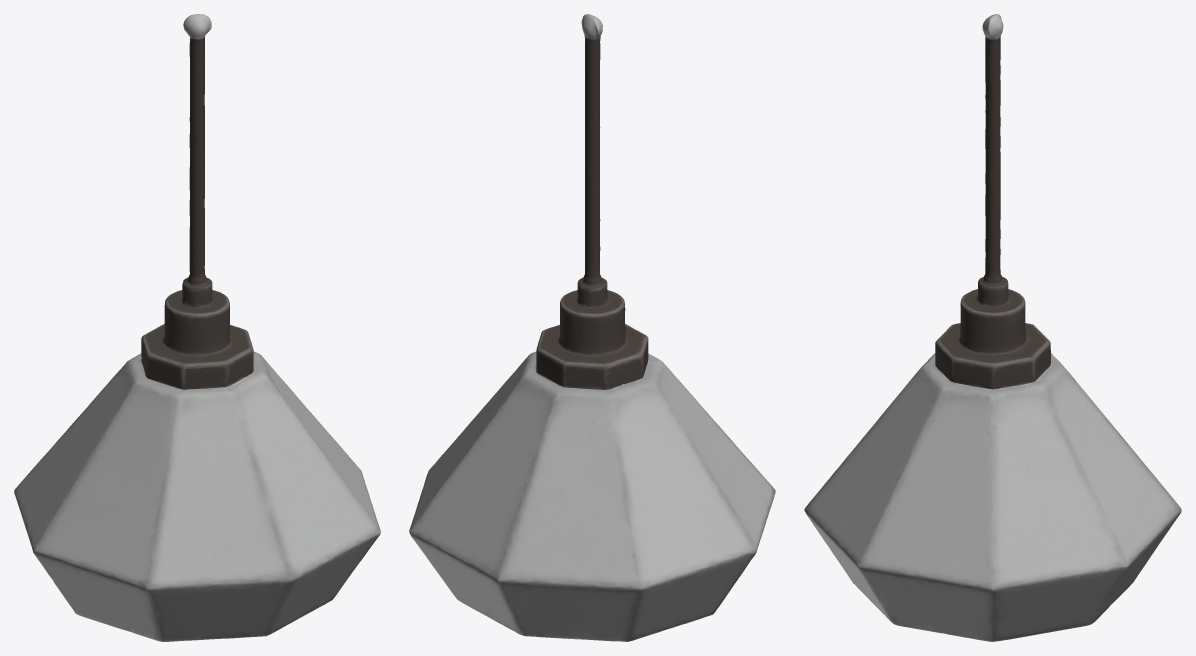
The model's file is extra_ceiling_lamp1.glb.
The picture shows the model from 3 angles, left to right: view 1: azimuth 30°, elevation 25°; view 2: azimuth 150°, elevation 25°; view 3: azimuth 270°, elevation 25°; orthographic projection.
Parts seen in each view (by area): view 1: world; view 2: world; view 3: world.
Part boxes in pixels (x1,y1,x2,y2): world: (14, 14, 380, 641); world: (409, 14, 775, 641); world: (804, 14, 1181, 641).
Size of the model in its own units: 0.6024 by 1 by 0.6016.
Materials: 1 (1 with a texture image).
